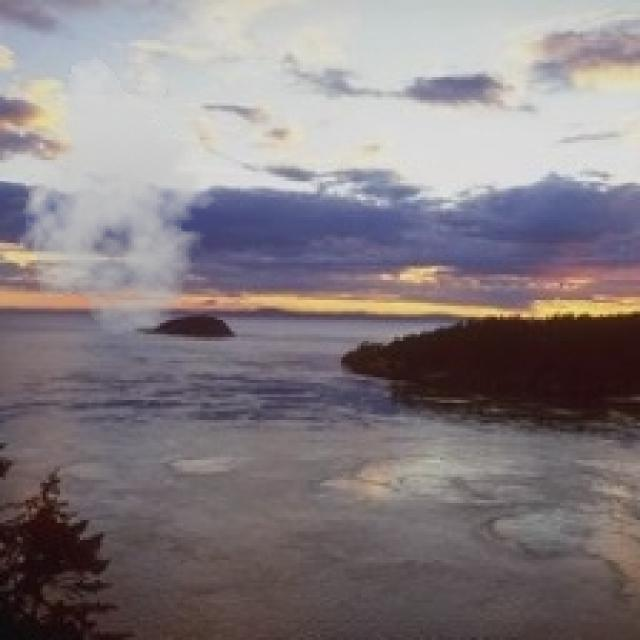Smoke: (11, 54, 226, 337)
